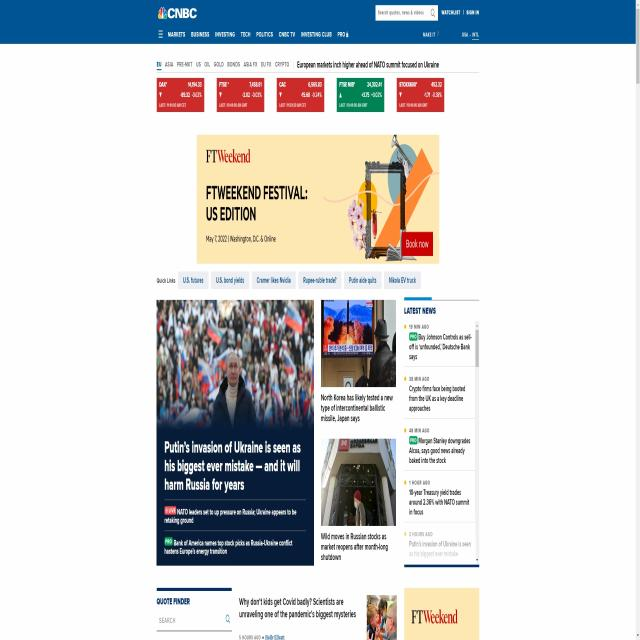menu-bar: (442, 5, 483, 18)
search: (375, 3, 439, 20)
tab-bar: (154, 268, 422, 290), (155, 24, 351, 38), (154, 57, 290, 68)
